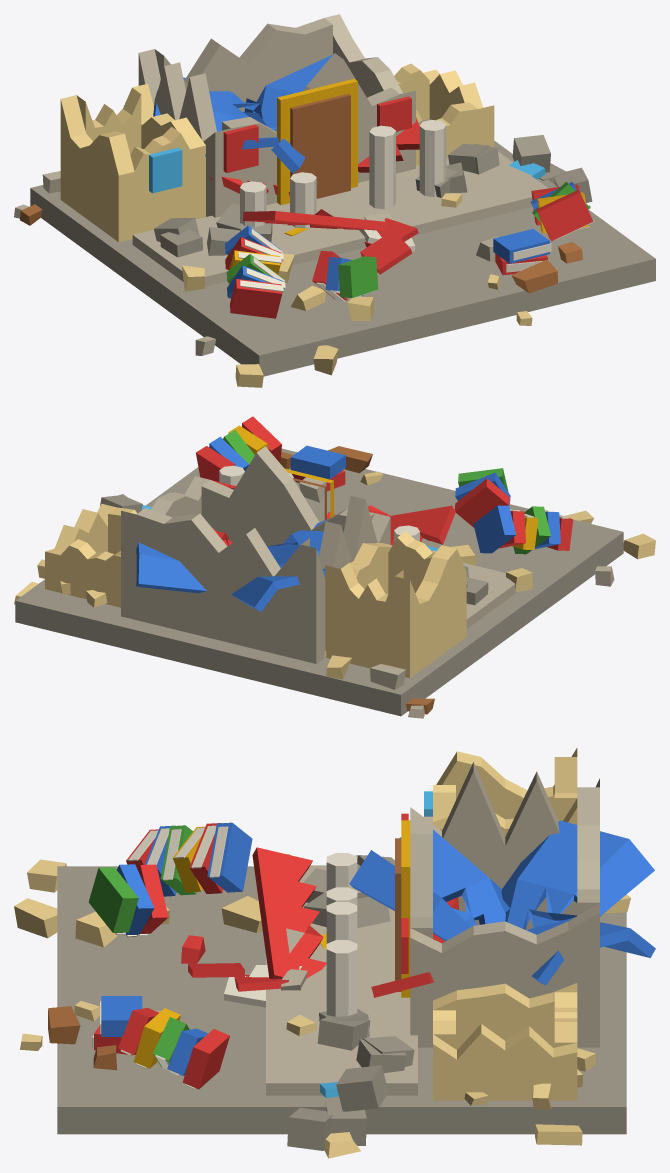
Rendered from library_t3_v1_dmg2.glb.
3 renders of one model, top to bottom at view 1: azimuth 30°, elevation 25°; view 2: azimuth 150°, elevation 25°; view 3: azimuth 270°, elevation 25°, orthographic. The views are drawn at different scales.
Parts seen in each view (by area): view 1: library_t3_v1_dmg2; view 2: library_t3_v1_dmg2; view 3: library_t3_v1_dmg2.
Part boxes in pixels (<box>): library_t3_v1_dmg2: <box>14,14,655,387</box>; library_t3_v1_dmg2: <box>14,416,655,718</box>; library_t3_v1_dmg2: <box>14,748,655,1158</box>.
Size of the model in its own units: 0.8798 by 0.2872 by 0.8459.
Materials: 1 (1 with a texture image).
